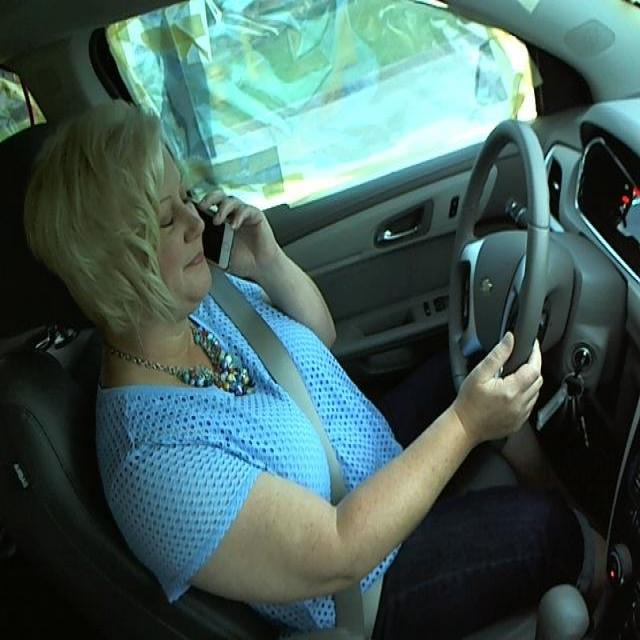using_phone: (1, 67, 334, 395)
